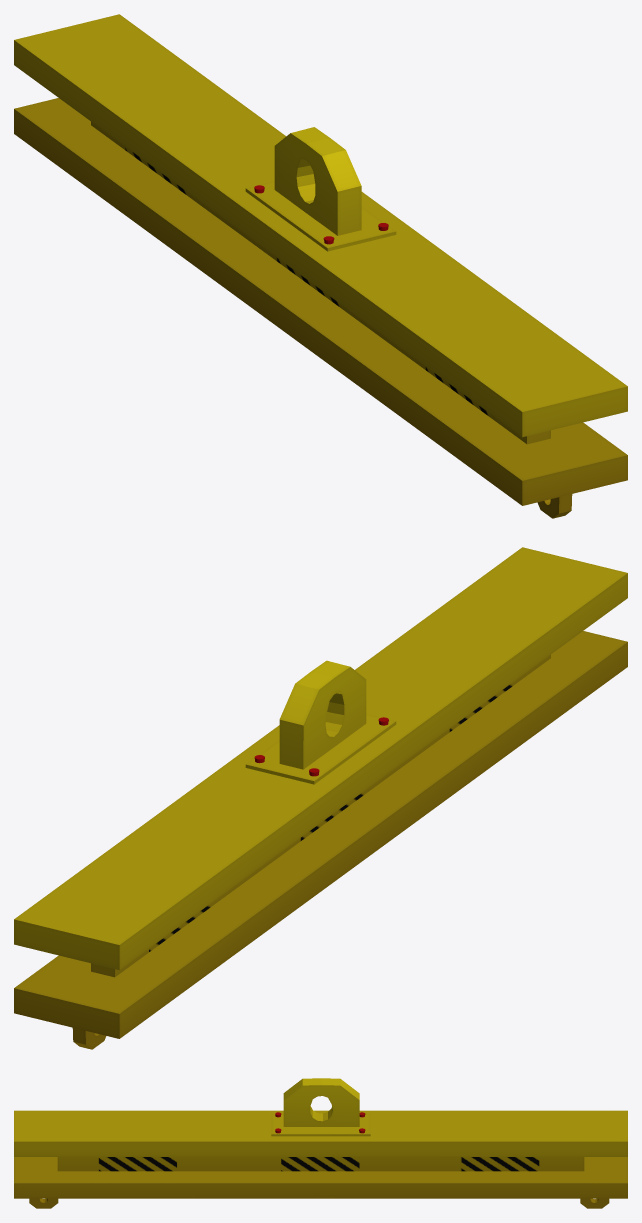
Rendered from travers1_itog.fbx.
The picture shows the model from 3 angles, top to bottom: view 1: azimuth 30°, elevation 25°; view 2: azimuth 150°, elevation 25°; view 3: azimuth 270°, elevation 25°; orthographic projection. The views are drawn at different scales.
Visible parts, largest first — view 1: pasted__Plane.018; view 2: pasted__Plane.018; view 3: pasted__Plane.018.
Part boxes in pixels (x1,y1,x2,y2): pasted__Plane.018: [14, 14, 627, 518]; pasted__Plane.018: [14, 547, 627, 1049]; pasted__Plane.018: [14, 1078, 627, 1208].
Size of the model in its own units: 31.43 by 58.29 by 262.
